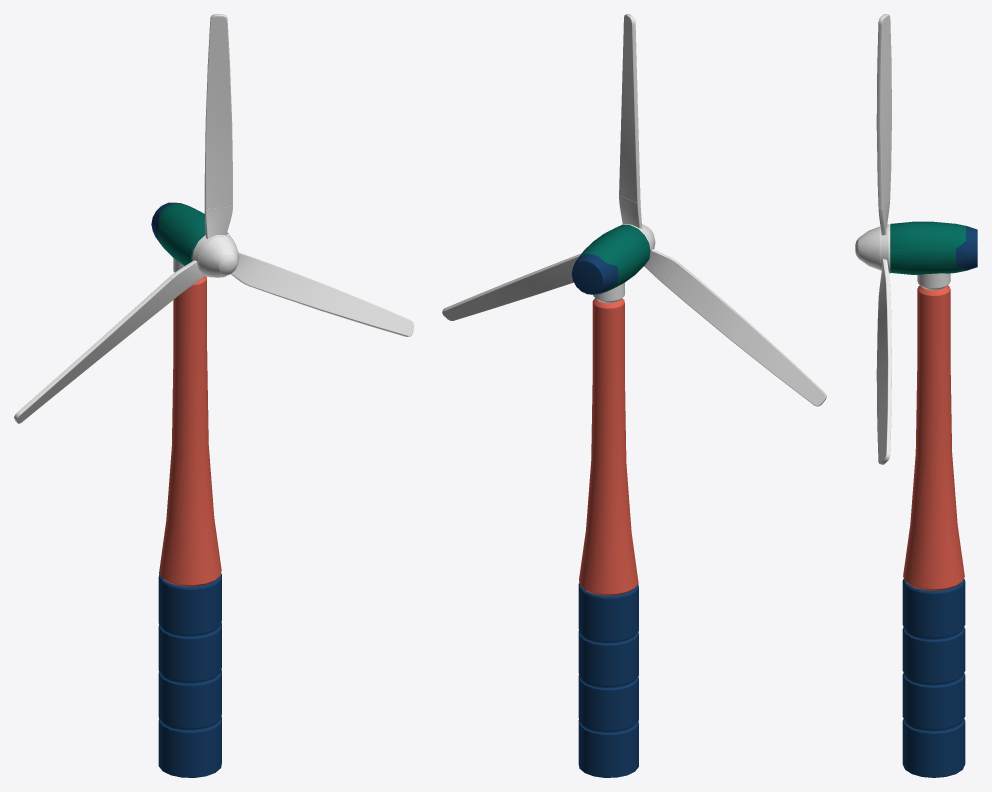
The model's file is Wind Mill.fbx.
The picture shows the model from 3 angles, left to right: view 1: azimuth 30°, elevation 25°; view 2: azimuth 150°, elevation 25°; view 3: azimuth 270°, elevation 25°; orthographic projection. The views are drawn at different scales.
Parts seen in each view (by area): view 1: cylinder84, polymsh_detached134, polymsh_extracted67, polymsh_extracted72, polymsh_extracted71, polymsh_extracted65, polymsh_detached130, polymsh_detached129; view 2: cylinder84, polymsh_detached134, polymsh_extracted71, polymsh_extracted67, polymsh_extracted72, polymsh_extracted65, polymsh_detached131, polymsh_detached135; view 3: cylinder84, polymsh_detached134, polymsh_extracted67, polymsh_extracted65, polymsh_extracted72, polymsh_detached132, polymsh_detached130, polymsh_detached131, polymsh_detached133, polymsh_extracted66, polymsh_detached129, polymsh_detached136.
Boxes of the visible parts, bbox=[...] form: cylinder84: bbox=[159, 276, 221, 586]; polymsh_detached134: bbox=[158, 573, 221, 777]; polymsh_extracted67: bbox=[204, 14, 232, 208]; polymsh_extracted72: bbox=[249, 259, 413, 336]; polymsh_extracted71: bbox=[14, 277, 179, 423]; polymsh_extracted65: bbox=[159, 203, 228, 265]; polymsh_detached130: bbox=[198, 236, 239, 277]; polymsh_detached129: bbox=[204, 206, 232, 239]; cylinder84: bbox=[579, 298, 638, 595]; polymsh_detached134: bbox=[578, 583, 638, 777]; polymsh_extracted71: bbox=[664, 263, 826, 406]; polymsh_extracted67: bbox=[619, 14, 640, 202]; polymsh_extracted72: bbox=[442, 253, 581, 320]; polymsh_extracted65: bbox=[579, 224, 648, 293]; polymsh_detached131: bbox=[571, 254, 618, 294]; polymsh_detached135: bbox=[644, 249, 679, 283]; cylinder84: bbox=[903, 285, 964, 590]; polymsh_detached134: bbox=[902, 578, 965, 777]; polymsh_extracted67: bbox=[876, 14, 891, 209]; polymsh_extracted65: bbox=[890, 221, 966, 274]; polymsh_extracted72: bbox=[876, 284, 891, 464]; polymsh_detached132: bbox=[890, 249, 955, 267]; polymsh_detached130: bbox=[859, 226, 880, 269]; polymsh_detached131: bbox=[956, 226, 977, 270]; polymsh_detached133: bbox=[917, 273, 950, 290]; polymsh_extracted66: bbox=[855, 224, 890, 271]; polymsh_detached129: bbox=[878, 198, 890, 235]; polymsh_detached136: bbox=[878, 259, 890, 298].
Size of the model in its own units: 240 by 440 by 65.1.
